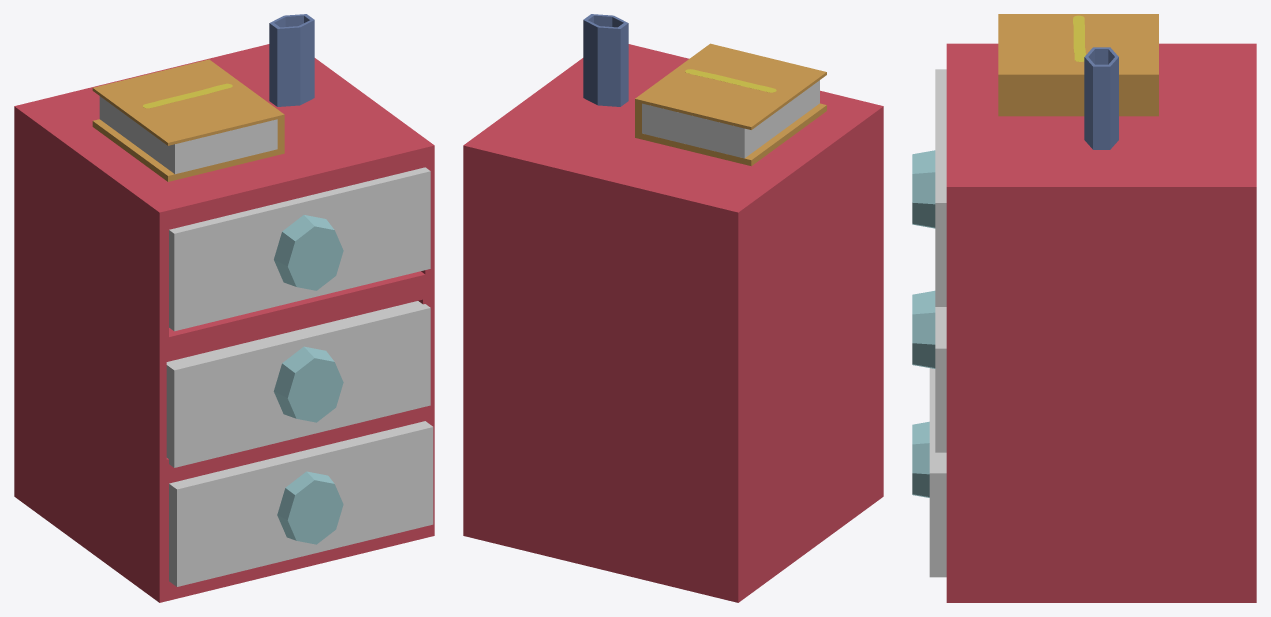
The model's file is Side Table.glb.
3 views of the same model, side by side, from view 1: azimuth 30°, elevation 25°; view 2: azimuth 150°, elevation 25°; view 3: azimuth 270°, elevation 25° (orthographic). The views are drawn at different scales.
Parts seen in each view (by area): view 1: Mesh_Mesh_head_geo.001_lambert2SG.001; view 2: Mesh_Mesh_head_geo.001_lambert2SG.001; view 3: Mesh_Mesh_head_geo.001_lambert2SG.001.
Boxes of the visible parts, box(x1,y1,x2,y2) form: Mesh_Mesh_head_geo.001_lambert2SG.001: box(14, 14, 434, 602); Mesh_Mesh_head_geo.001_lambert2SG.001: box(463, 14, 883, 602); Mesh_Mesh_head_geo.001_lambert2SG.001: box(912, 14, 1256, 602).
Bounding box in the file's own units: 59 × 98 × 60.
